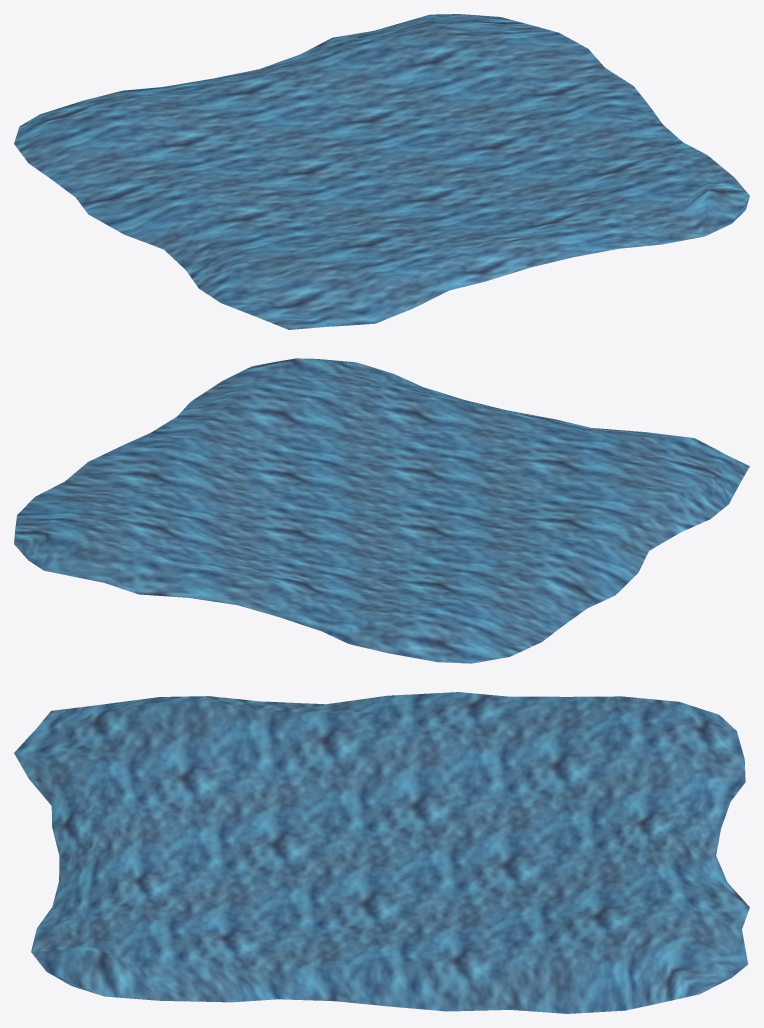
The model's file is water.glb.
3 views of the same model, one above another, from view 1: azimuth 30°, elevation 25°; view 2: azimuth 150°, elevation 25°; view 3: azimuth 270°, elevation 25° (orthographic). The views are drawn at different scales.
Visible parts, largest first — view 1: water; view 2: water; view 3: water.
Part boxes in pixels (x1,y1,x2,y2): water: [14, 14, 749, 329]; water: [14, 358, 749, 663]; water: [14, 692, 749, 1013].
Size of what is drawn, in the model's own units: 102 by 3.04 by 98.52.
1 material, 1 textured.
